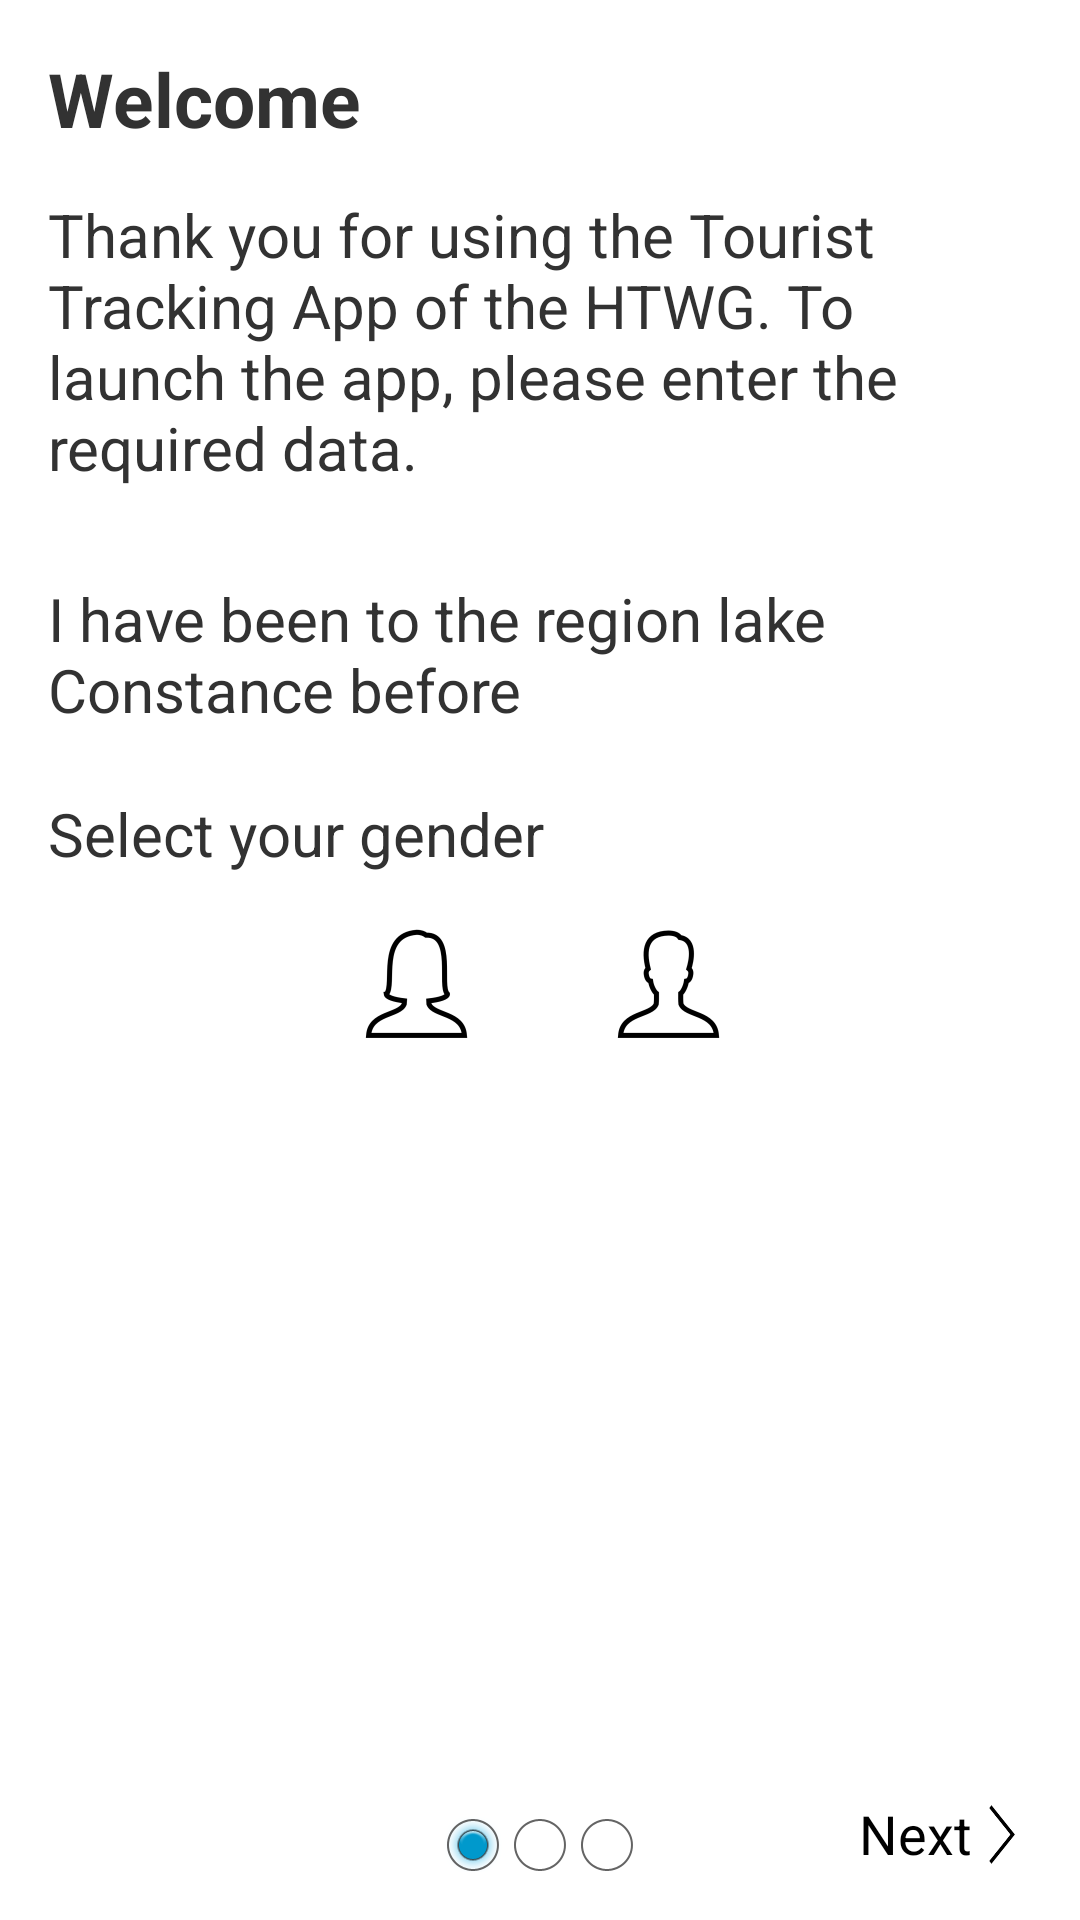

Where icons sit on this 1080w x 1920h app screen, as {"left": x1, "top": y1, "right": x2, "bottom": y2}:
female: {"left": 365, "top": 929, "right": 468, "bottom": 1038}
forward: {"left": 989, "top": 1805, "right": 1015, "bottom": 1864}
male: {"left": 617, "top": 930, "right": 720, "bottom": 1038}
